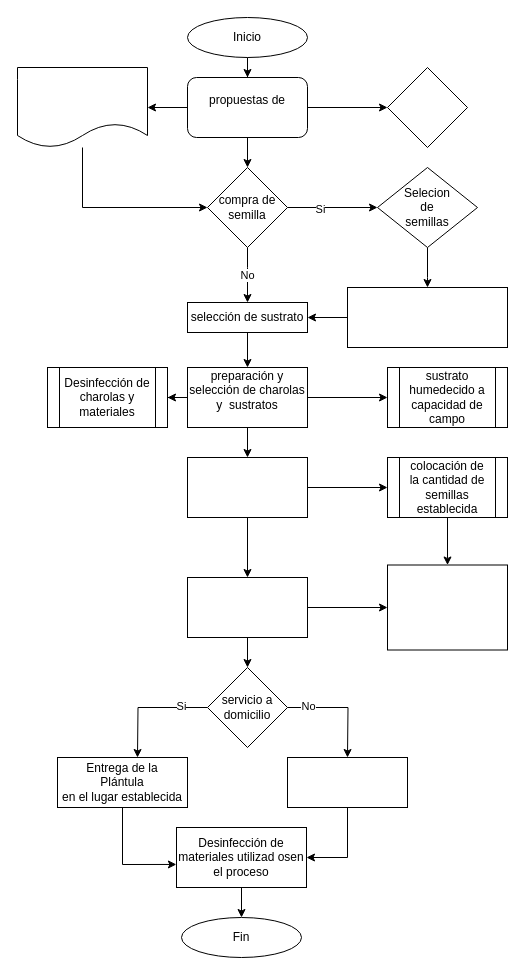
The diagram is 525 pixels wide and 975 high, and some of its shapes have lost their labels. Here are the shapes that lost their labels. From the top down, the centre of each, then its label:
At (82,107): "Realización y firma de contrato por ambas Partes.".
At (427,107): "selección de plan".
At (427,317): "Selección de seillas de acuerdo alas características requeridas".
At (247,487): "llenado de charolas y siembre de semilla".
At (247,607): "Cuidado de platuda".
At (447,607): "Riego Nutricion regualcion de temperatura y humedad".
At (347,782): "Entrega de plántula en el establecimiento".
